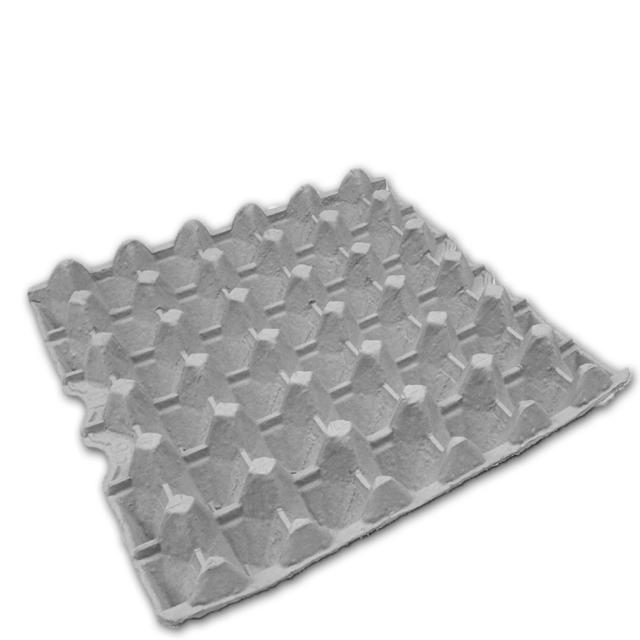biodegradable: (28, 151, 640, 630)
